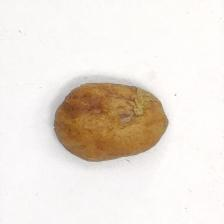NG: (111, 83, 161, 124)
